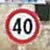limite 40: (4, 7, 40, 45)
